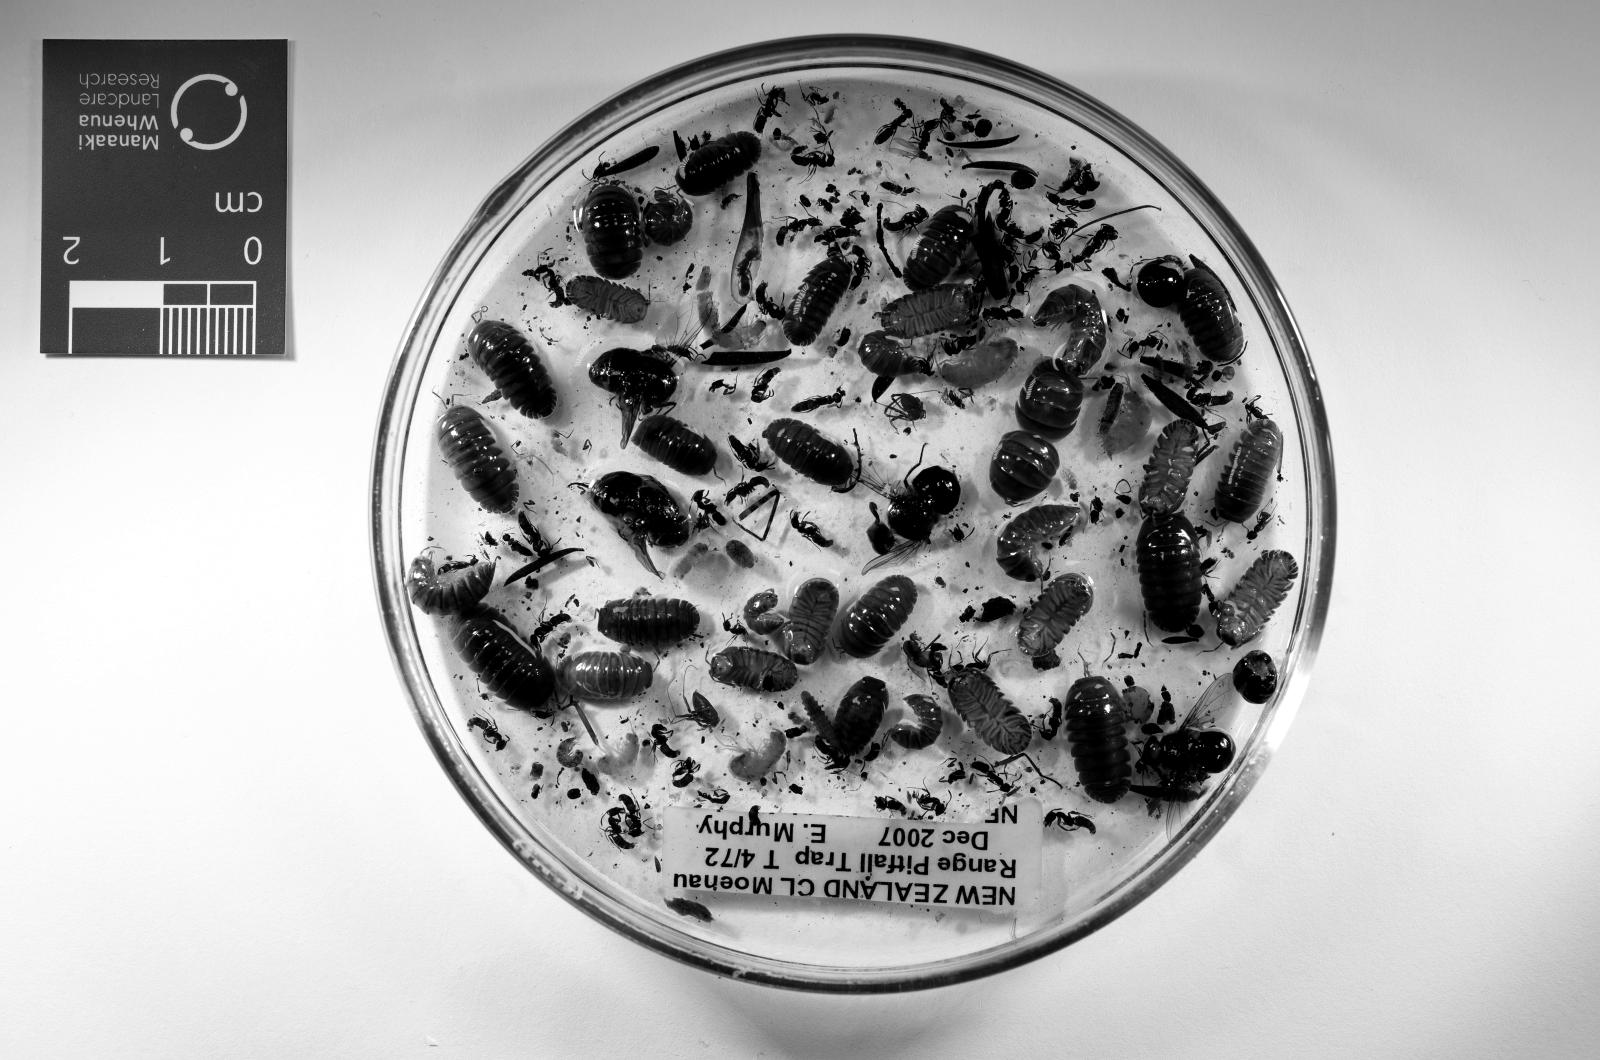amphipoda: (938, 338, 1018, 388), (1103, 386, 1149, 457), (728, 730, 788, 783), (597, 733, 641, 776)
coleoptera: (503, 535, 535, 556)
diptera: (588, 327, 700, 447), (572, 472, 691, 575), (860, 463, 959, 575), (1141, 674, 1235, 783), (887, 134, 931, 161), (903, 634, 931, 674)
formicidae: (529, 612, 572, 649), (728, 435, 772, 472), (753, 88, 788, 134), (1044, 807, 1097, 835), (972, 761, 1016, 795), (519, 512, 553, 556), (791, 512, 835, 547), (535, 264, 569, 308), (468, 717, 510, 751), (791, 388, 847, 413), (603, 807, 634, 851), (725, 476, 769, 506), (940, 327, 984, 357), (875, 109, 913, 143), (775, 218, 822, 245), (885, 205, 928, 233), (694, 491, 728, 525), (750, 367, 782, 403), (1035, 699, 1062, 742), (753, 283, 784, 319), (1187, 386, 1235, 409), (618, 795, 643, 839), (1047, 193, 1097, 214), (650, 724, 681, 757), (850, 245, 872, 292), (913, 791, 947, 816), (791, 153, 835, 168), (982, 308, 1022, 319)
isopoda: (447, 602, 556, 711), (468, 319, 556, 419), (438, 407, 519, 512), (1065, 677, 1132, 804), (1138, 512, 1203, 634), (1219, 550, 1297, 649), (1212, 419, 1284, 522), (947, 667, 1031, 755), (1175, 258, 1244, 363), (837, 575, 919, 658), (1035, 286, 1109, 376), (575, 183, 643, 279), (784, 248, 853, 344), (763, 419, 856, 487), (1018, 575, 1094, 658), (903, 205, 974, 292), (997, 506, 1078, 581), (1138, 419, 1200, 516), (875, 283, 982, 338), (407, 550, 497, 615), (1016, 357, 1084, 441), (675, 130, 763, 195), (597, 600, 700, 649), (991, 432, 1060, 506), (631, 416, 715, 476), (782, 577, 837, 665), (556, 652, 653, 699), (831, 677, 887, 755), (710, 646, 797, 692), (565, 277, 650, 323), (890, 696, 944, 751), (643, 189, 694, 245), (860, 332, 915, 379), (744, 590, 784, 634), (556, 736, 584, 770)
opiliones: (675, 692, 721, 730), (885, 394, 925, 435)
